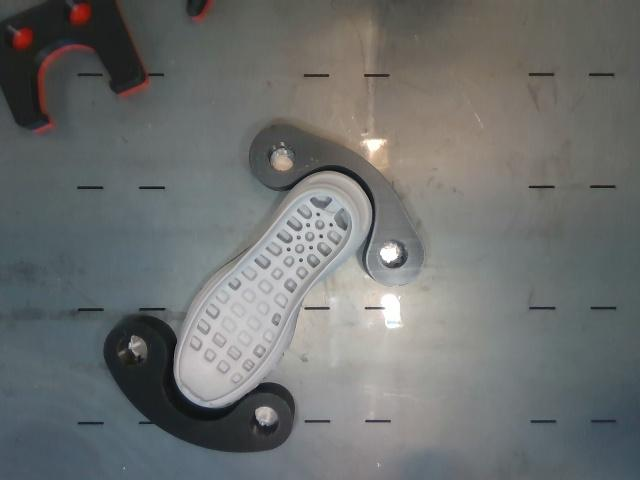shoes: (178, 191, 352, 403)
